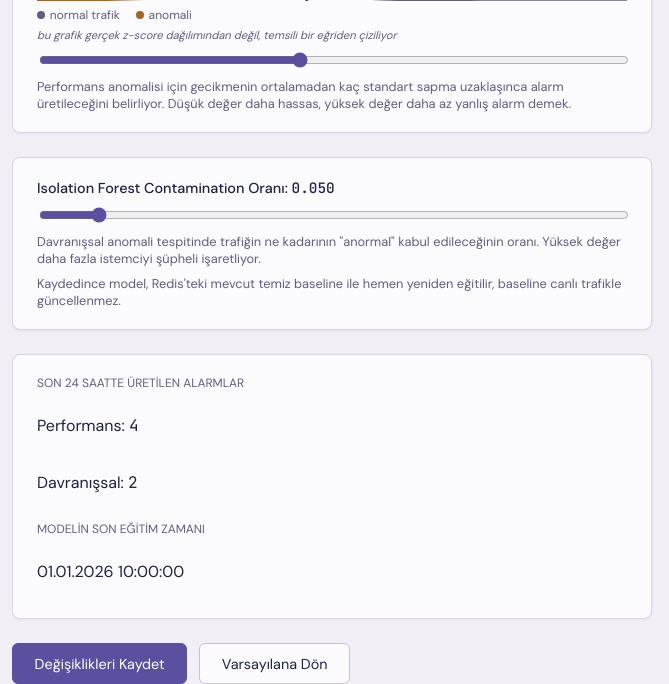
Test case: ThresholdConfig › varsayılana dön butonu slider değerlerini sıfırlıyor
(page scrolled)
Expected: the slider labelled "Z-Score Eşiği: 3.2" is shown, [39,52,629,68]
Click the button "Varsayılana Dön". click: (275, 664)
box: [199,643,350,683]
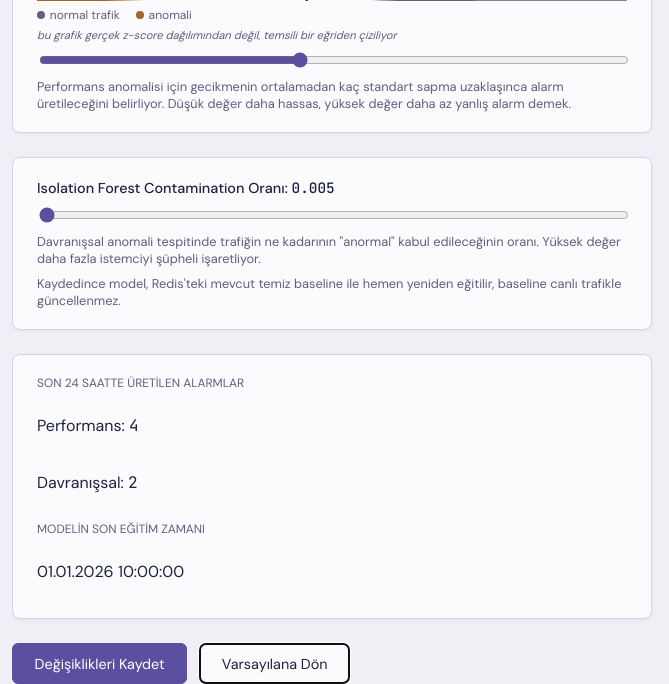
Expected: the slider labelled "Z-Score Eşiği: 3.2" holds "3.2", [39,52,629,68]
Result: the slider labelled "Isolation Forest Contamination Oranı: 0.005" holds "0.005" at [39,207,629,223]
